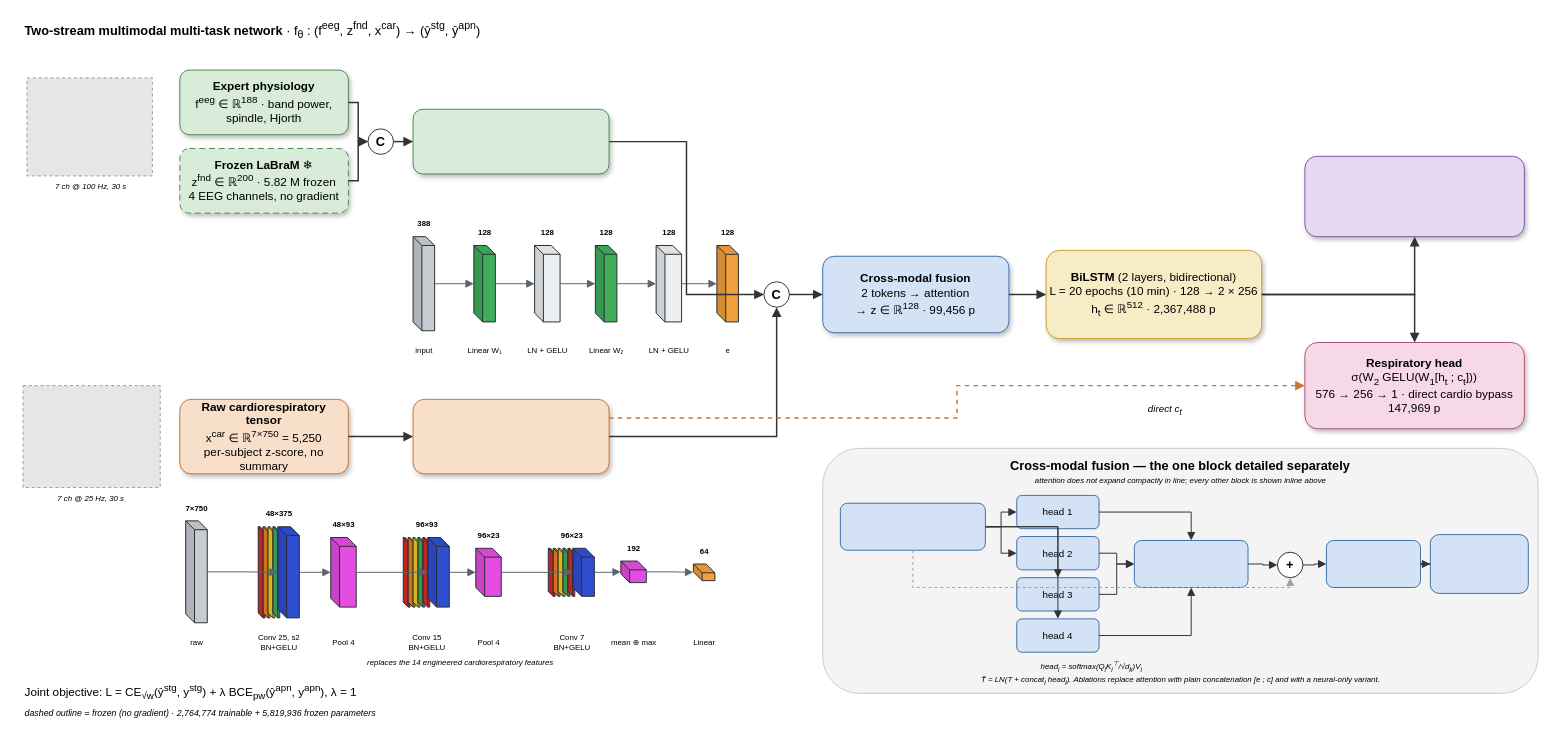
Some shapes in this 1555 by 739 pixel diagram are drawn without their labels. Grey dashed boxes stand in for pictures. Here are the shapes that lost their labels. From the top down, the centre of each, then its label:
(x=511, y=142): EEG encoder φ eeg FeatMLP: 388 → e ∈ ℝ 128 · 66,816 p
(x=1415, y=197): Staging head softmax(W s h t ) · 512 → 5 + HMM Viterbi decode · 2,565 p
(x=511, y=437): Cardio encoder φ car CardioCNN: 7×750 → c ∈ ℝ 64 · 155,232 p
(x=912, y=526): tokenize T = [W e e ; W c c] + M type
(x=1190, y=563): concat heads · W o
(x=1373, y=563): LayerNorm
(x=1478, y=563): Feed-Forward W f ∈ ℝ 128×256 → fuse z ∈ ℝ 128
